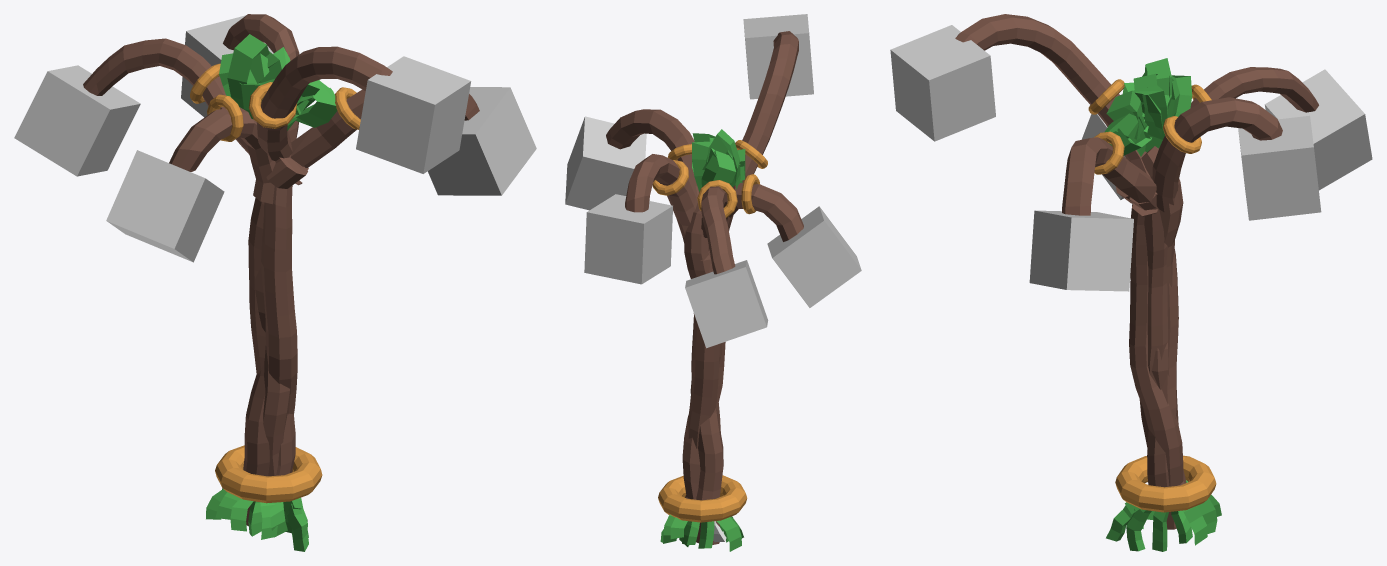
The model's file is ResourceTree.fbx.
3 views of the same model, side by side, from view 1: azimuth 30°, elevation 25°; view 2: azimuth 150°, elevation 25°; view 3: azimuth 270°, elevation 25° (orthographic). The views are drawn at different scales.
Visible parts, largest first — view 1: group_628800924, mesh_2121908309, mesh_1211358757, mesh_335446242, mesh_1214411662, group_1529553894, group_1391220795, group_1967745909, mesh_1116900661, group_1334899070, group_1482816575, group_1063752882 (+5 smaller); view 2: mesh_2001339800, mesh_335446242, mesh_1214411662, mesh_1211358757, group_628800924, mesh_2121908309, group_1482816575, group_1529553894, group_1267136827, group_1063752882, mesh_1116900661, group_1391220795 (+8 smaller); view 3: group_628800924, mesh_2121908309, mesh_1214411662, mesh_2001339800, mesh_1211358757, group_1529553894, group_1391220795, group_1267136827, group_1063752882, mesh_1116900661, group_1967745909, group_1482816575 (+4 smaller).
Part boxes in pixels (x1,y1,x2,y2): group_628800924: (248,157,308,476); mesh_2121908309: (356,56,471,173); mesh_1211358757: (14,65,140,176); mesh_335446242: (106,150,224,262); mesh_1214411662: (428,87,536,195); group_1529553894: (256,46,392,161); group_1391220795: (219,34,337,130); group_1967745909: (83,38,249,154); mesh_1116900661: (215,445,322,503); group_1334899070: (169,107,275,204); group_1482816575: (243,131,291,525); group_1063752882: (291,89,479,167); mesh_2001339800: (584,194,672,284); mesh_335446242: (767,206,861,307); mesh_1214411662: (565,116,646,210); mesh_1211358757: (685,260,768,348); group_628800924: (682,250,725,499); mesh_2121908309: (743,14,813,99); group_1482816575: (684,203,723,544); group_1529553894: (742,31,798,182); group_1267136827: (625,154,710,260); group_1063752882: (606,109,699,200); mesh_1116900661: (658,475,747,522); group_1391220795: (692,129,745,191); group_628800924: (1116,186,1184,487); mesh_2121908309: (890,25,995,141); mesh_1214411662: (1029,210,1133,291); mesh_2001339800: (1238,115,1321,220); mesh_1211358757: (1264,69,1372,190); group_1529553894: (955,14,1157,194); group_1391220795: (1104,58,1192,156); group_1267136827: (1152,97,1282,212); group_1063752882: (1062,137,1156,215); mesh_1116900661: (1115,455,1216,512); group_1967745909: (1190,67,1318,112); group_1482816575: (1141,146,1186,529).
Bounding box in the file's own units: 240 × 323 × 271.
